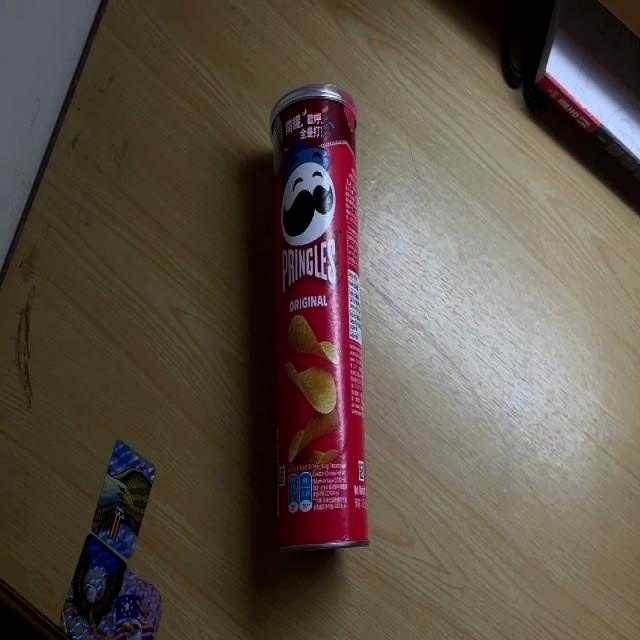Pringles: (270, 83, 372, 551)
